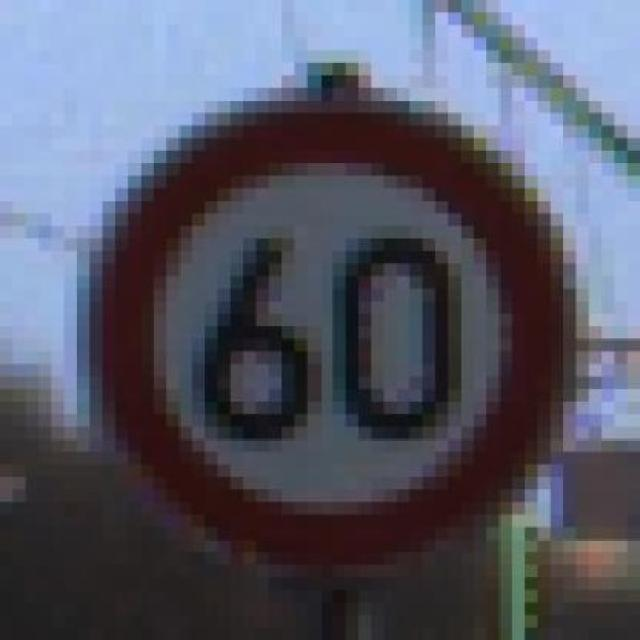forb_speed_over_60: (112, 110, 540, 545)
